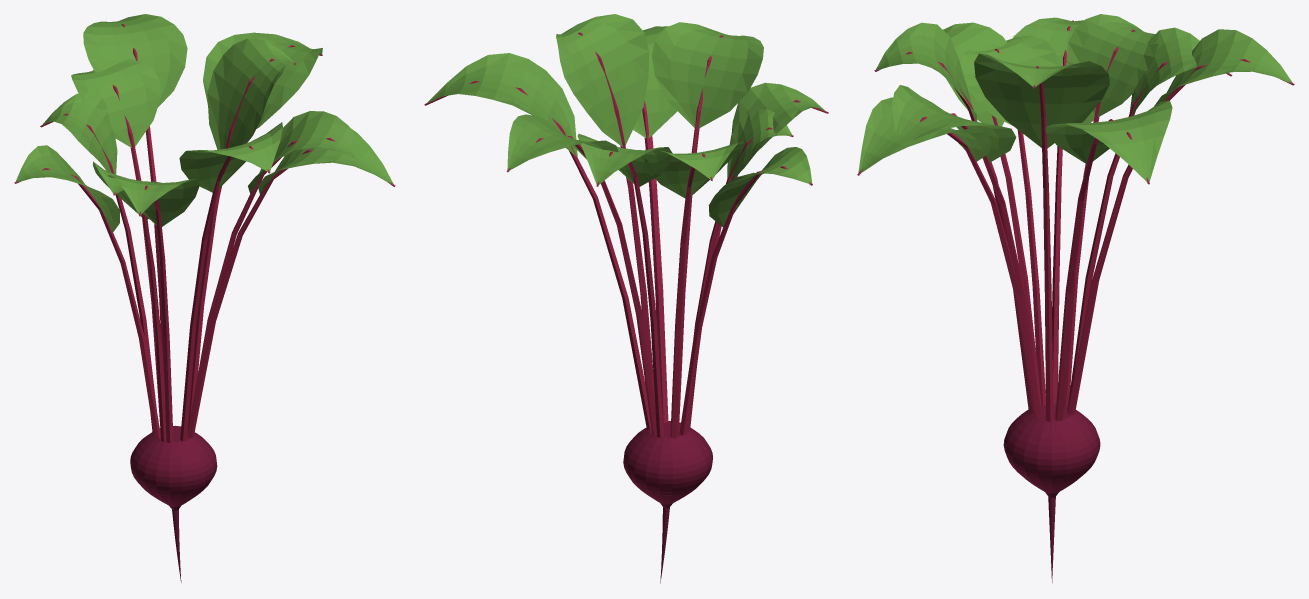
The model's file is beetroot_harvest_v18.glb.
3 views of the same model, side by side, from view 1: azimuth 30°, elevation 25°; view 2: azimuth 150°, elevation 25°; view 3: azimuth 270°, elevation 25° (orthographic). The views are drawn at different scales.
Visible parts, largest first — view 1: plant; view 2: plant; view 3: plant.
Part boxes in pixels (x1,y1,x2,y2): plant: (14,14,395,582); plant: (424,14,828,583); plant: (857,14,1294,582).
Bounding box in the file's own units: 0.3154 × 0.4538 × 0.3157.
1 material, 1 textured.
